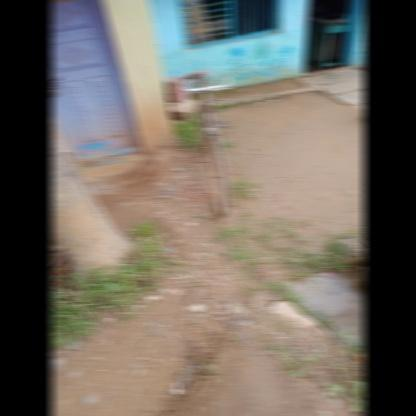Bicycle: (151, 58, 262, 222)
